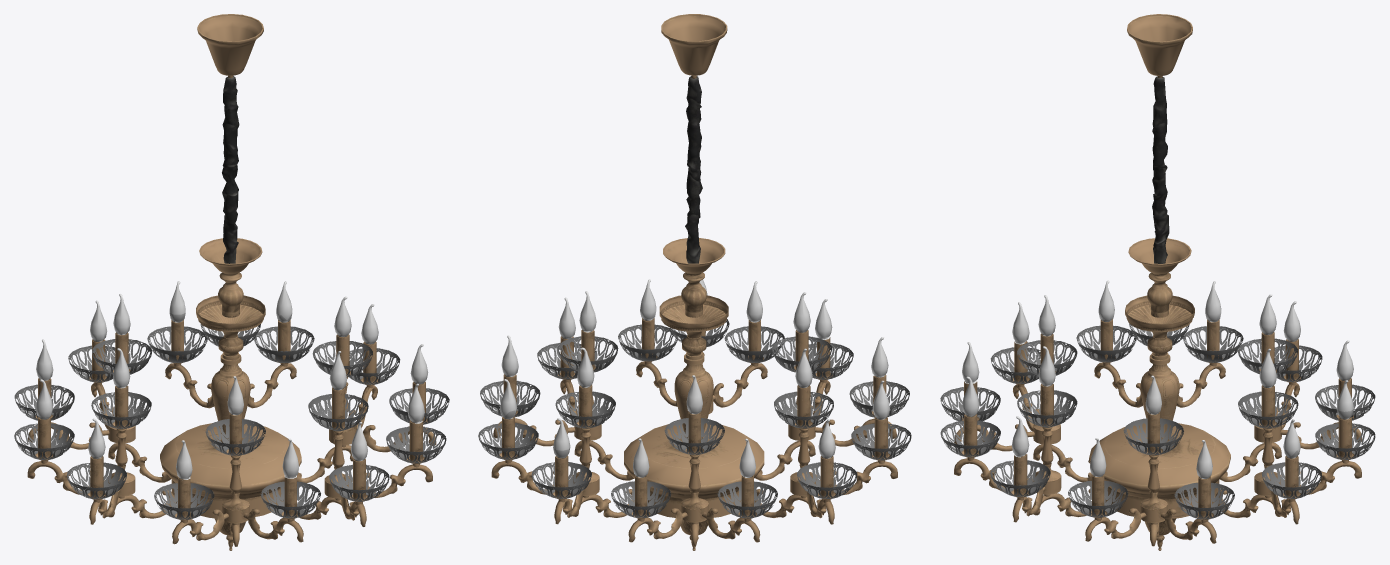
File: Chandelier_03_2k.fbx
3 views of the same model, side by side, from view 1: azimuth 30°, elevation 25°; view 2: azimuth 150°, elevation 25°; view 3: azimuth 270°, elevation 25° (orthographic).
Visible parts, largest first — view 1: Chandelier_03; view 2: Chandelier_03; view 3: Chandelier_03.
Part boxes in pixels (left/top/right/bottom): Chandelier_03: left=14, top=14, right=449, bottom=550; Chandelier_03: left=478, top=14, right=911, bottom=550; Chandelier_03: left=940, top=14, right=1375, bottom=550.
Size of the model in its own units: 78.04 by 104 by 78.55.
